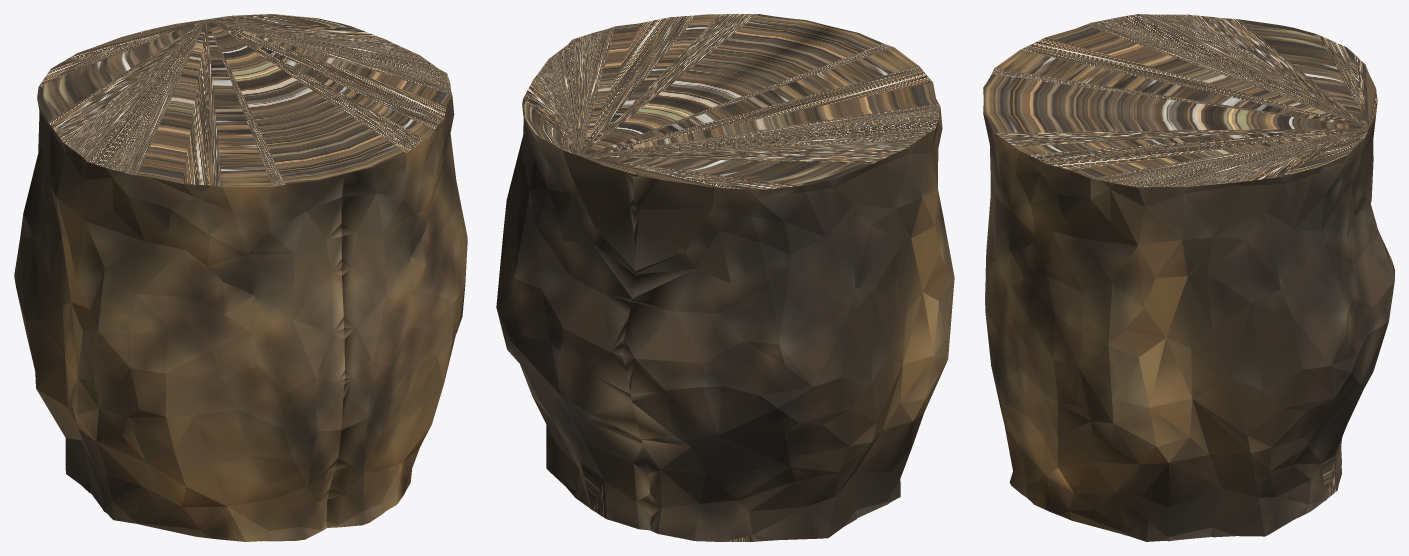
The model's file is Sungaya_inexpectata_31mg.023.obj.
3 renders of one model, left to right at view 1: azimuth 30°, elevation 25°; view 2: azimuth 150°, elevation 25°; view 3: azimuth 270°, elevation 25°, orthographic.
Visible parts, largest first — view 1: 10-a5_Sungaya_inexpectata_31mg.023; view 2: 10-a5_Sungaya_inexpectata_31mg.023; view 3: 10-a5_Sungaya_inexpectata_31mg.023.
Part boxes in pixels (left/top/right/bottom): 10-a5_Sungaya_inexpectata_31mg.023: left=14, top=14, right=467, bottom=541; 10-a5_Sungaya_inexpectata_31mg.023: left=496, top=14, right=954, bottom=541; 10-a5_Sungaya_inexpectata_31mg.023: left=983, top=14, right=1394, bottom=541.
Bounding box in the file's own units: 0.00141 × 0.00132 × 0.00133.
Materials: 1 (1 with a texture image).
